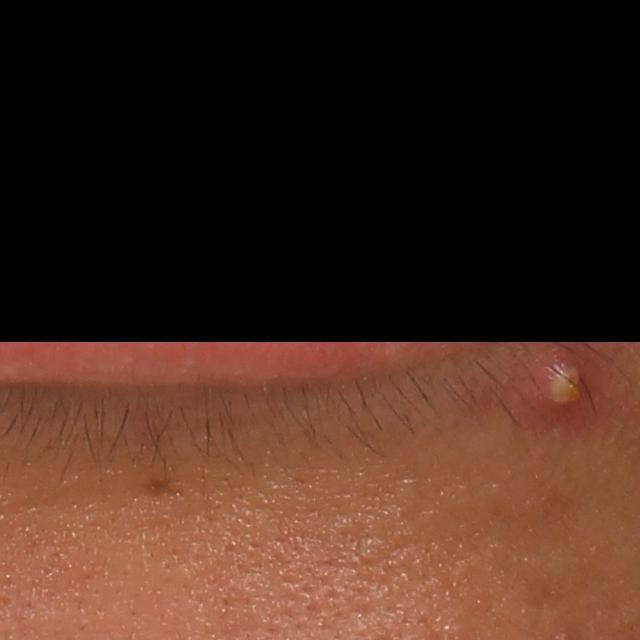pustule: (522, 350, 602, 417)
